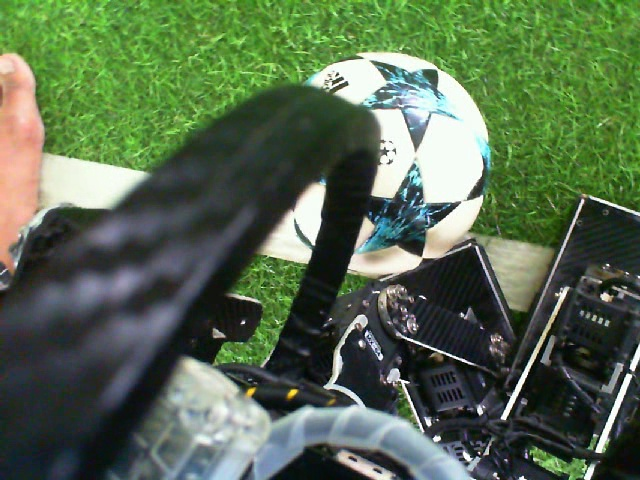ball: (341, 49, 492, 281)
